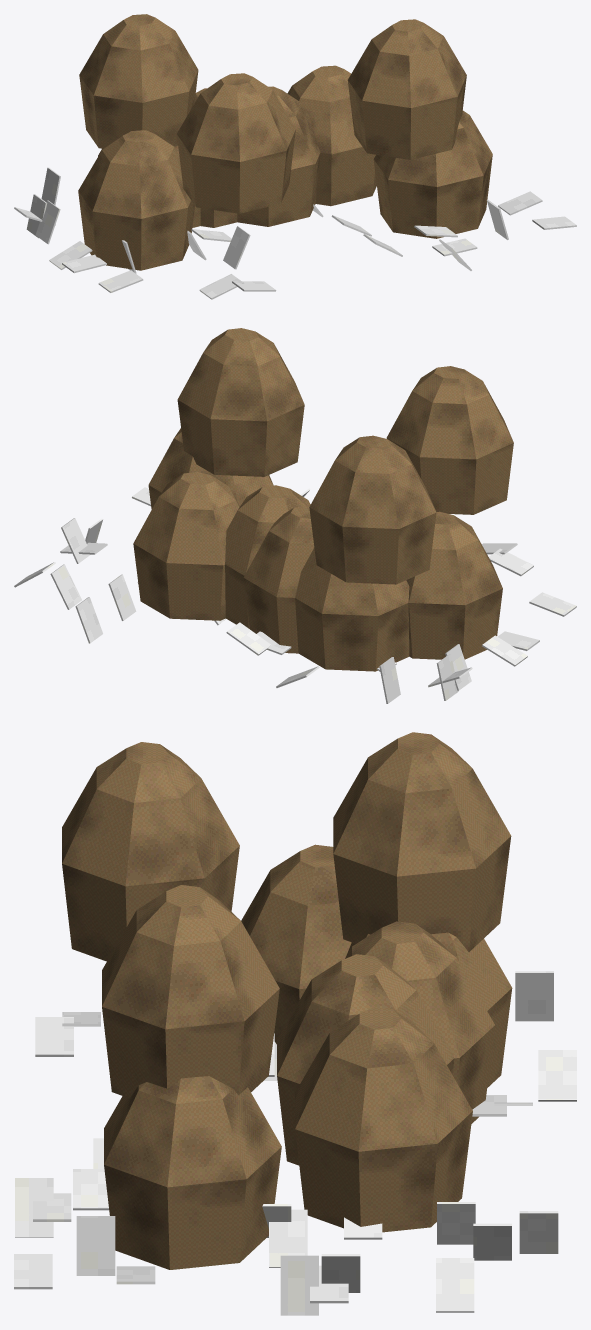
The model's file is sacos_cartas.obj.
The picture shows the model from 3 angles, top to bottom: view 1: azimuth 30°, elevation 25°; view 2: azimuth 150°, elevation 25°; view 3: azimuth 270°, elevation 25°; orthographic projection. The views are drawn at different scales.
Visible parts, largest first — view 1: sacos_cartas; view 2: sacos_cartas; view 3: sacos_cartas.
Boxes of the visible parts, x1,y1,x2,y2 form: sacos_cartas: (14, 14, 576, 299); sacos_cartas: (14, 328, 576, 703); sacos_cartas: (14, 732, 576, 1315).
Size of the model in its own units: 2.89 by 1.35 by 2.04.
Materials: 2 (2 with a texture image).
